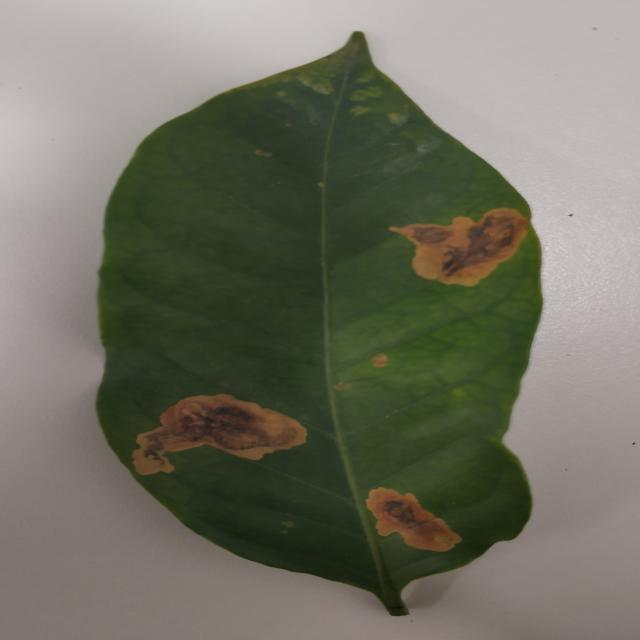Plaga-Minador: (94, 31, 545, 619)
